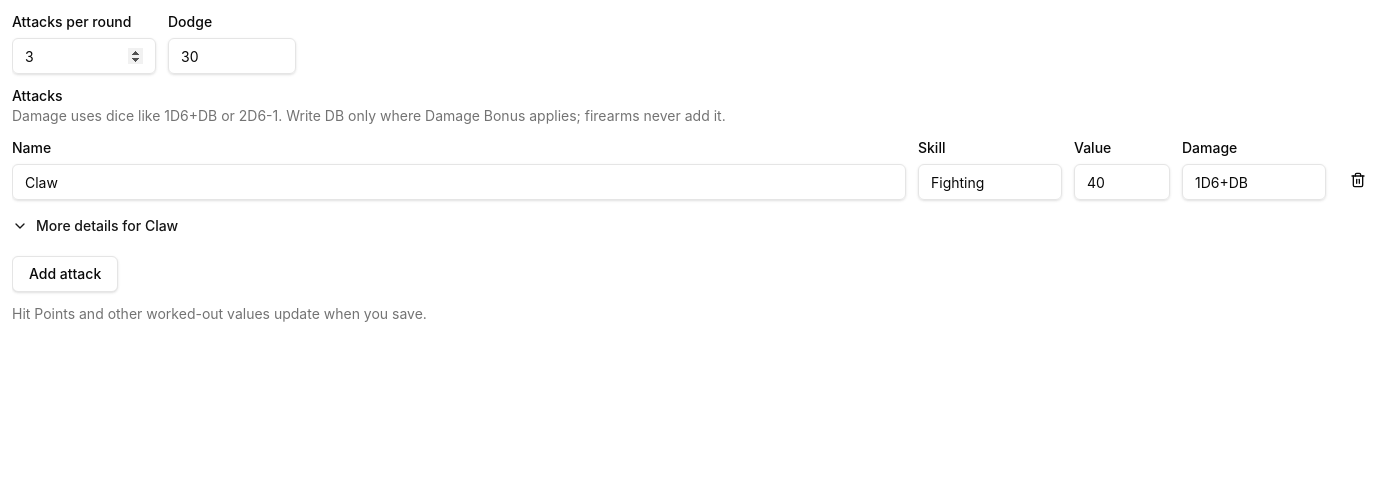
Test: MonsterCombatFields › lets the Keeper open and close More details by hand
The image size is (1390, 497).
Click the button "More details for Claw".
click(95, 226)  # box 12,208 -> 178,244
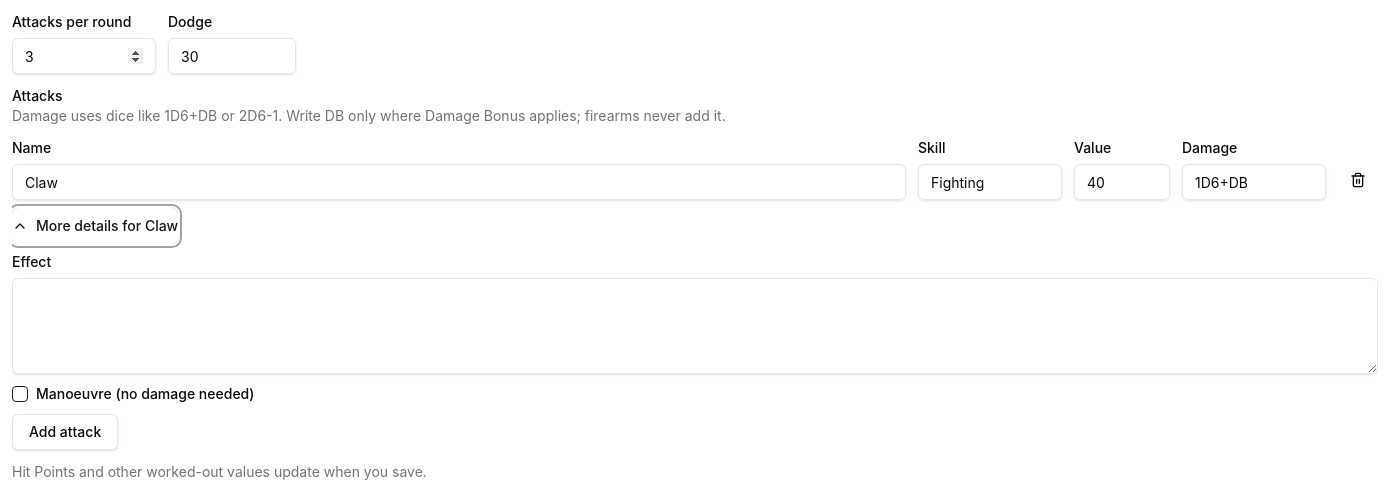
Expected: the button "More details for Claw" is expanded
Click the button "More details for Claw".
click(95, 226)  # box 12,208 -> 178,244
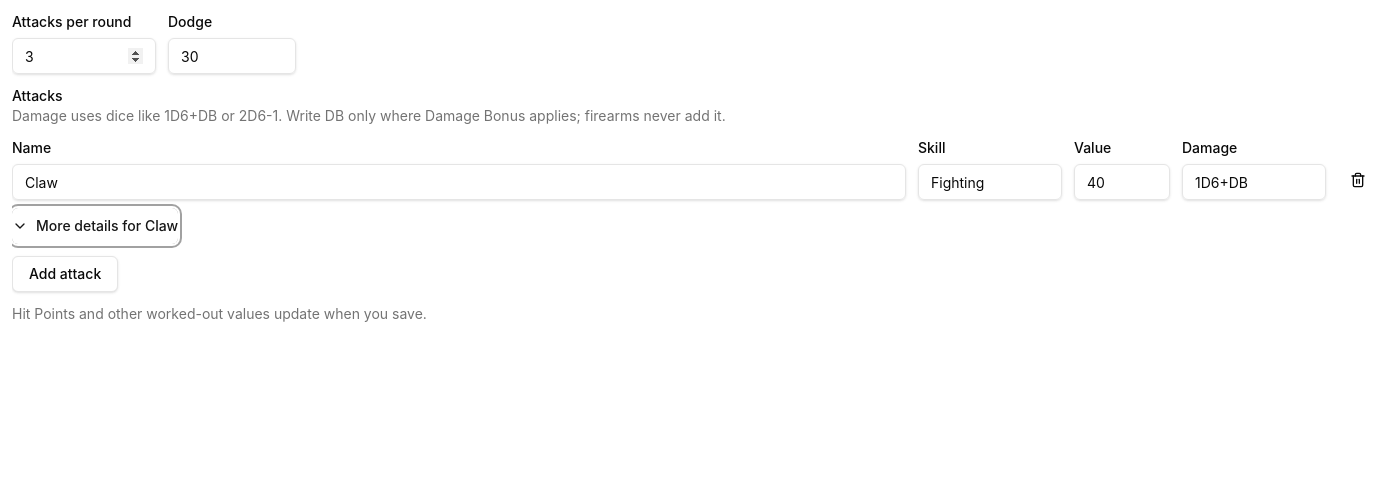
Expected: the button "More details for Claw" is collapsed, 12,208 -> 178,244
